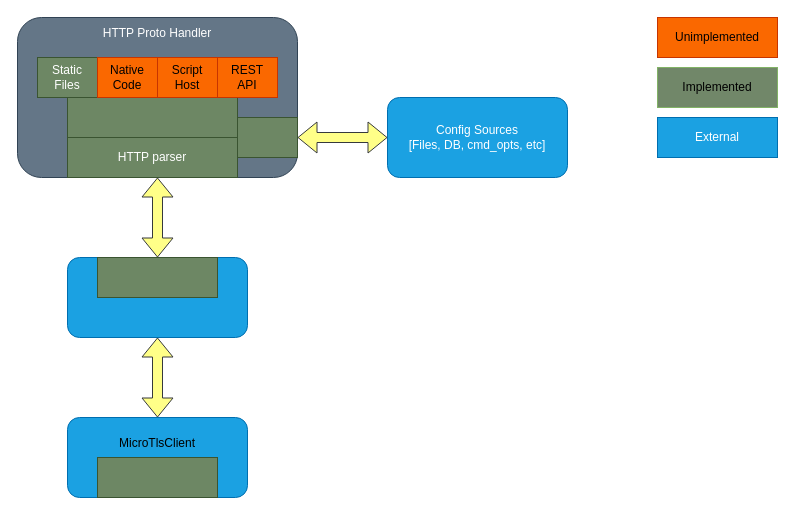
Some shapes in this 795 by 515 pixel diagram are drawn without their labels. Here are the shapes that lost their labels. From the top down, the box of each, then its label:
(66, 96, 238, 138): Request Router
(236, 116, 298, 158): Config
(96, 256, 218, 298): HTTP Server Handler
(66, 256, 248, 338): MicroTlsServer
(96, 456, 218, 498): HTTP Client Handler
